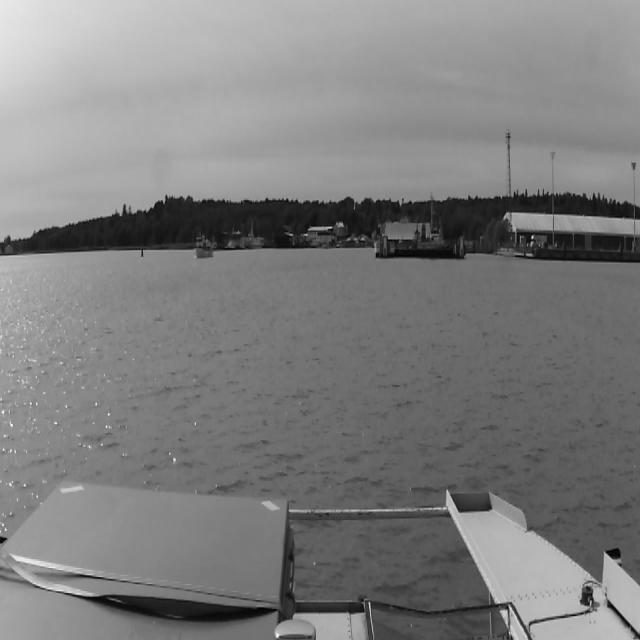buoy: (140, 245, 144, 258)
ship: (195, 237, 213, 258)
